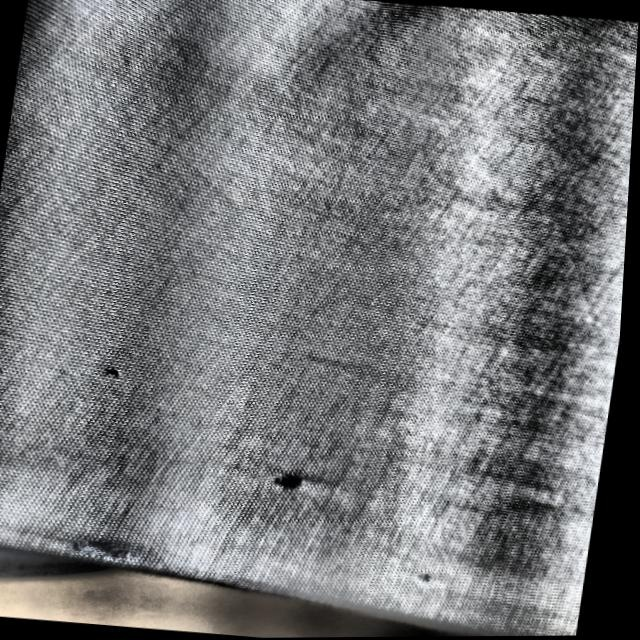Hole: (268, 461, 315, 500), (95, 352, 134, 386), (414, 561, 444, 587)
